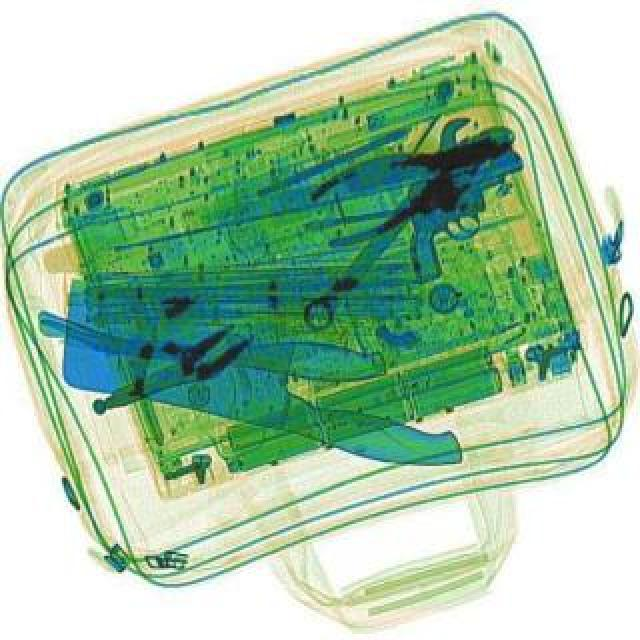gun: (382, 146, 550, 284)
knife: (42, 272, 486, 474), (56, 322, 386, 382)
scissors: (292, 110, 492, 336)
wrench: (300, 104, 532, 254)
